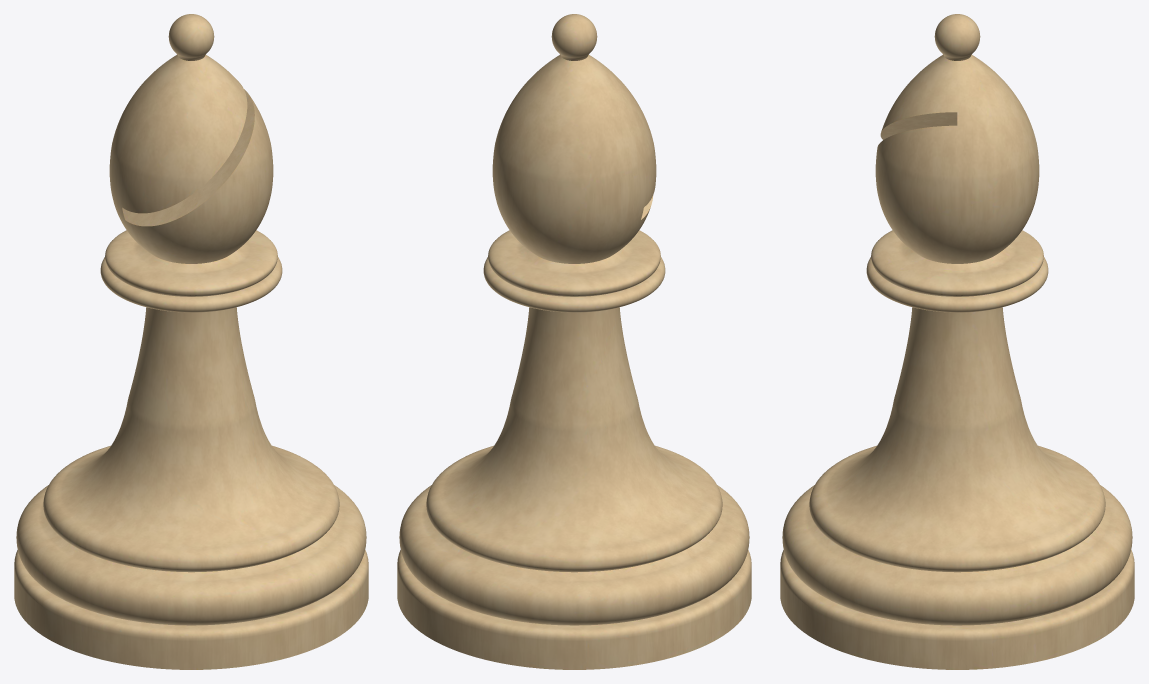
File: laeufer_weiss.glb
The picture shows the model from 3 angles, left to right: view 1: azimuth 30°, elevation 25°; view 2: azimuth 150°, elevation 25°; view 3: azimuth 270°, elevation 25°; orthographic projection.
Visible parts, largest first — view 1: laeufer_weiss; view 2: laeufer_weiss; view 3: laeufer_weiss.
Part boxes in pixels (x1,y1,x2,y2): laeufer_weiss: [14, 14, 368, 669]; laeufer_weiss: [397, 14, 751, 669]; laeufer_weiss: [780, 14, 1134, 669].
Bounding box in the file's own units: 0.78 × 1.4 × 0.78.
Materials: 1 (1 with a texture image).
